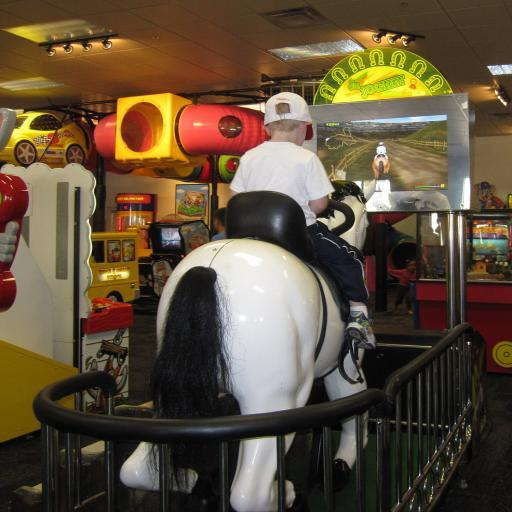Horse: (118, 175, 378, 512)
